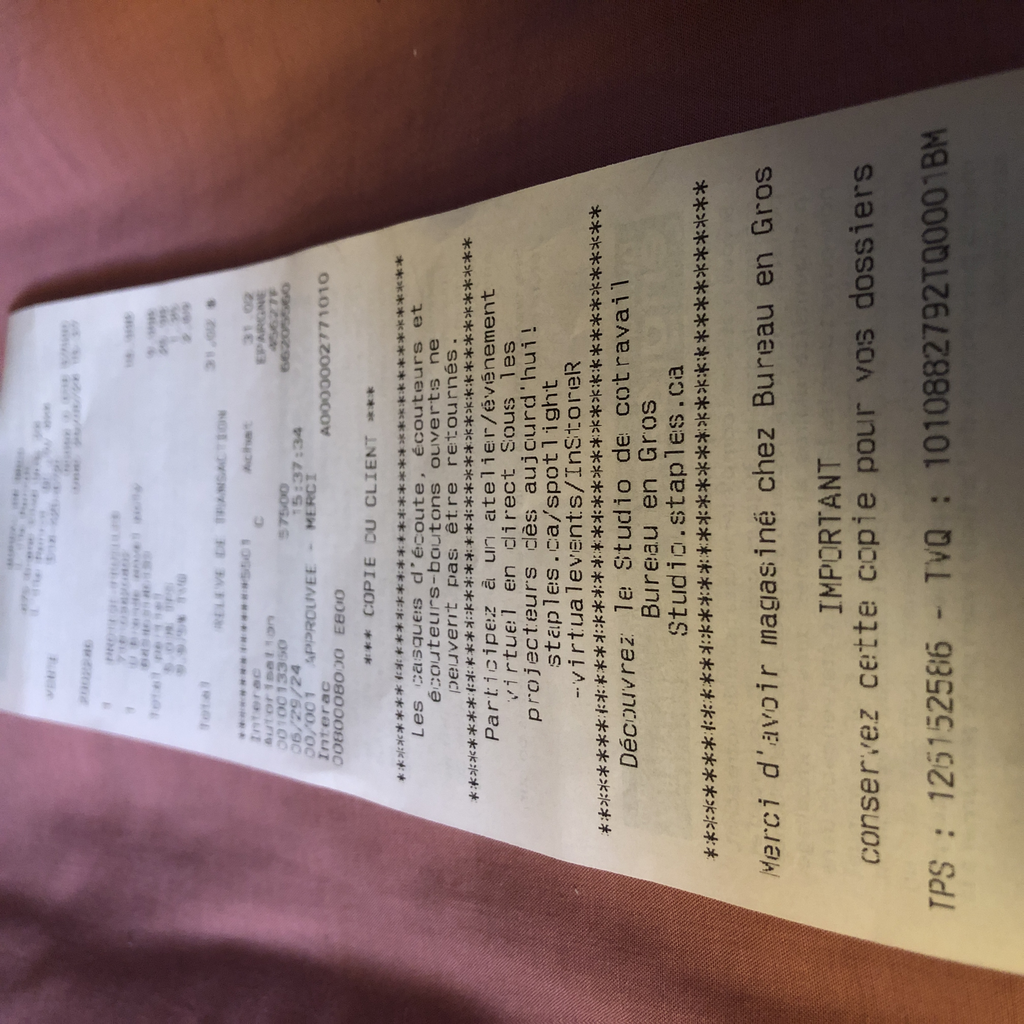recipt: (8, 71, 1022, 969)
